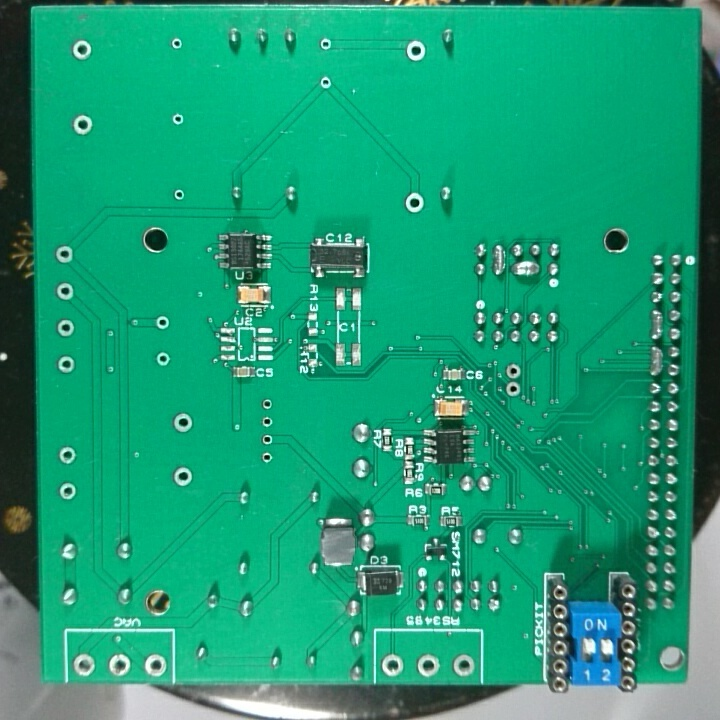F: (414, 649, 442, 681), (106, 648, 133, 678), (67, 35, 95, 63), (71, 650, 99, 678), (402, 36, 429, 65), (450, 651, 477, 680), (142, 649, 168, 678), (68, 112, 98, 137), (401, 189, 428, 216), (379, 651, 405, 679), (171, 409, 197, 436), (171, 464, 196, 490), (53, 242, 77, 269), (54, 445, 82, 467), (53, 280, 78, 304), (53, 316, 78, 340), (54, 352, 78, 376), (54, 479, 77, 503), (152, 347, 173, 371), (501, 362, 526, 381), (502, 380, 524, 400), (154, 312, 172, 335), (317, 34, 334, 54), (317, 73, 334, 93), (168, 35, 186, 53), (257, 448, 275, 466), (171, 186, 188, 205), (259, 395, 276, 414), (168, 111, 188, 127), (259, 414, 277, 431), (260, 431, 277, 449)
P: (646, 343, 665, 379), (509, 258, 540, 280), (648, 307, 665, 344), (490, 241, 506, 280)
